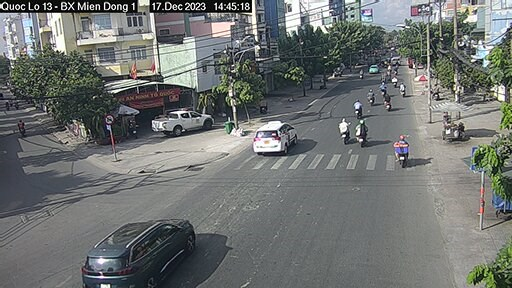car: (80, 205, 199, 275), (247, 118, 299, 160), (149, 107, 221, 135)
motorbike: (393, 136, 419, 162), (337, 119, 350, 141), (351, 101, 365, 118), (356, 120, 366, 141), (364, 90, 376, 106)
